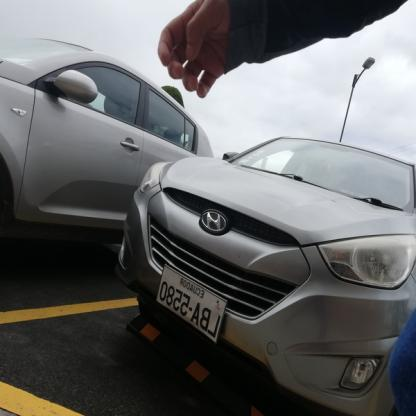Placa: (151, 260, 229, 344)
